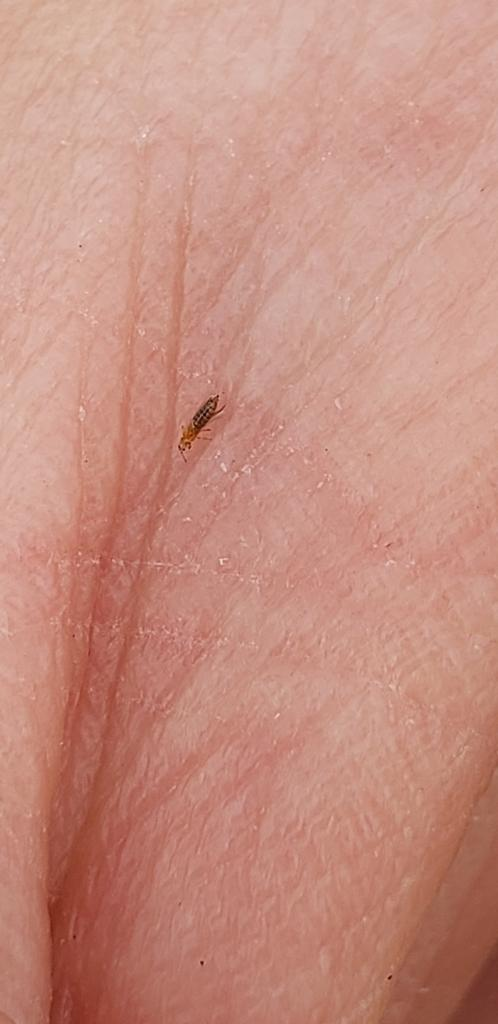tiny_pests: (147, 351, 254, 491)
